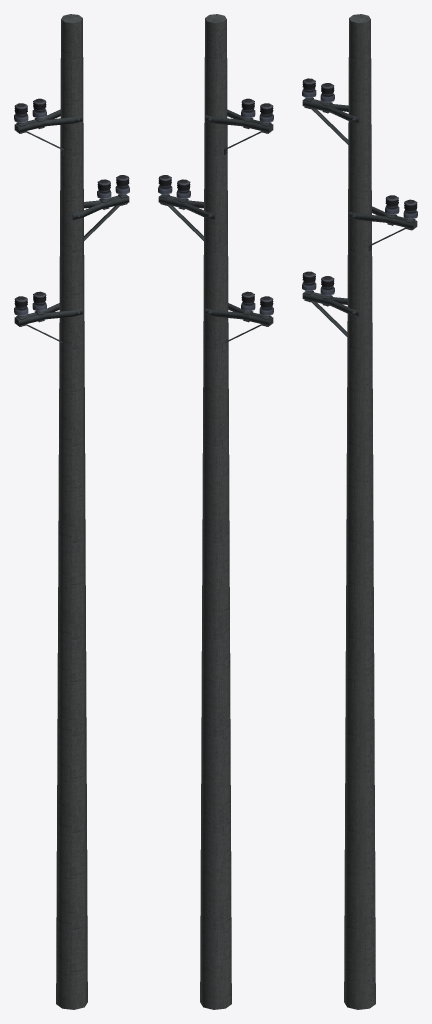
File: pole_concrete_c_lod_0.glb
The picture shows the model from 3 angles, left to right: view 1: azimuth 30°, elevation 25°; view 2: azimuth 150°, elevation 25°; view 3: azimuth 330°, elevation 25°; orthographic projection.
Parts seen in each view (by area): view 1: pole_concrete_c_lod_0; view 2: pole_concrete_c_lod_0; view 3: pole_concrete_c_lod_0.
Boxes of the visible parts, x1,y1,x2,y2 form: pole_concrete_c_lod_0: (14, 14, 129, 1009); pole_concrete_c_lod_0: (158, 14, 273, 1009); pole_concrete_c_lod_0: (302, 14, 417, 1009).
Bounding box in the file's own units: 1.24 × 10.2 × 0.2772.
Materials: 2 (2 with a texture image).
